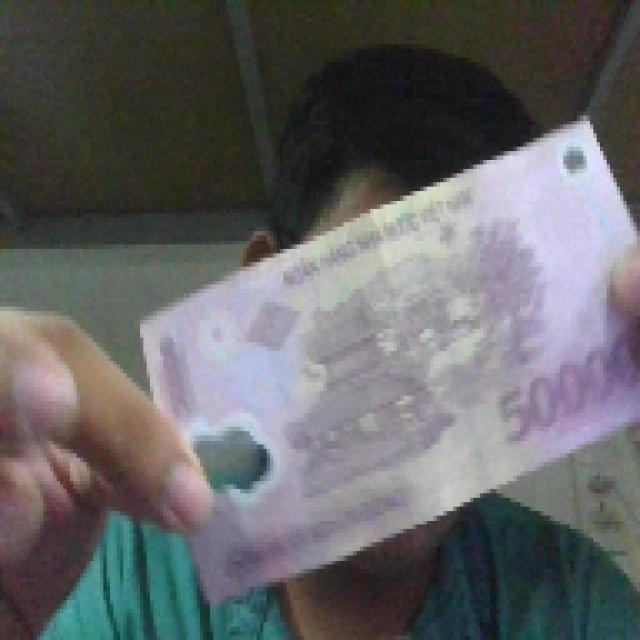50 000 VND: (133, 111, 637, 609)
